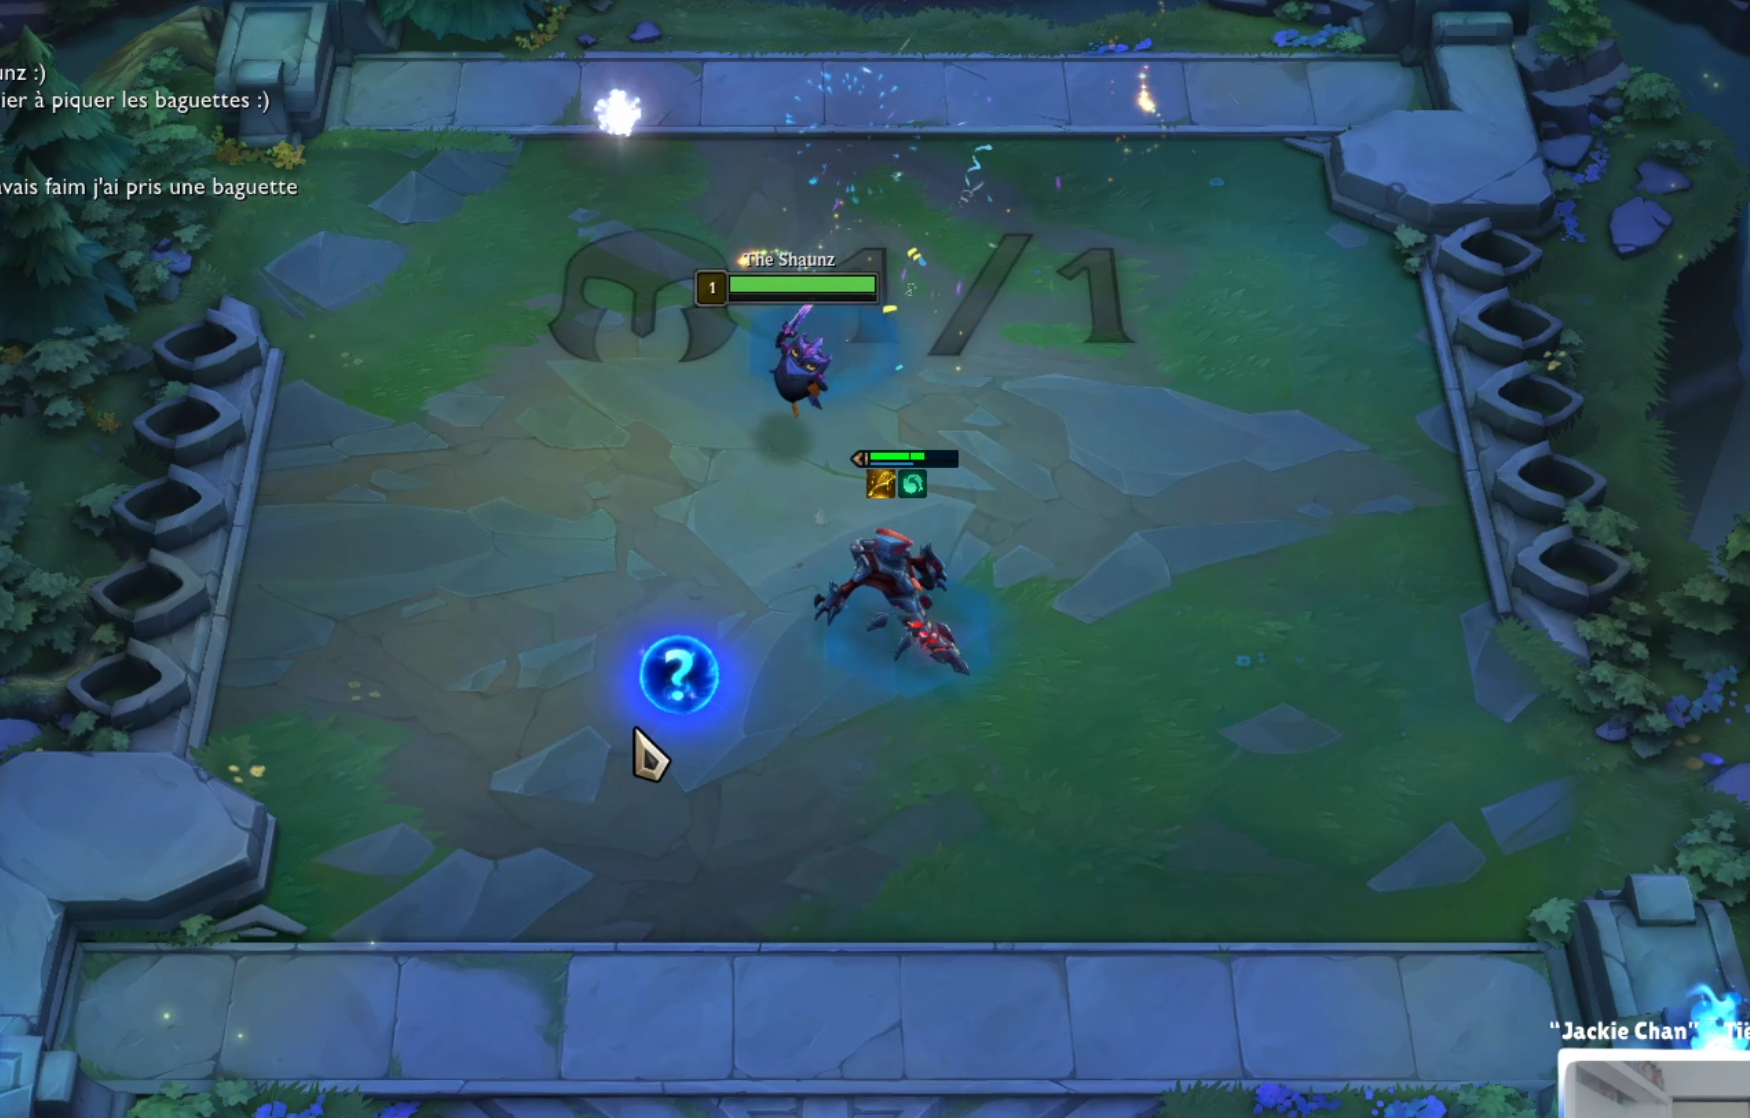blue orb: (634, 626, 724, 727)
